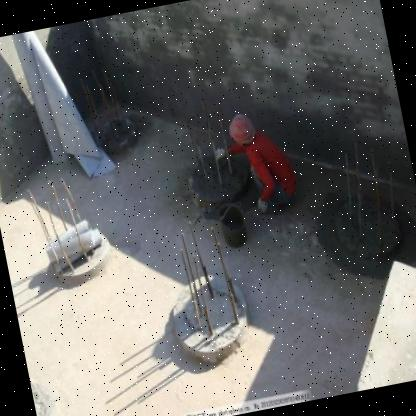capacete: (221, 104, 263, 156)
